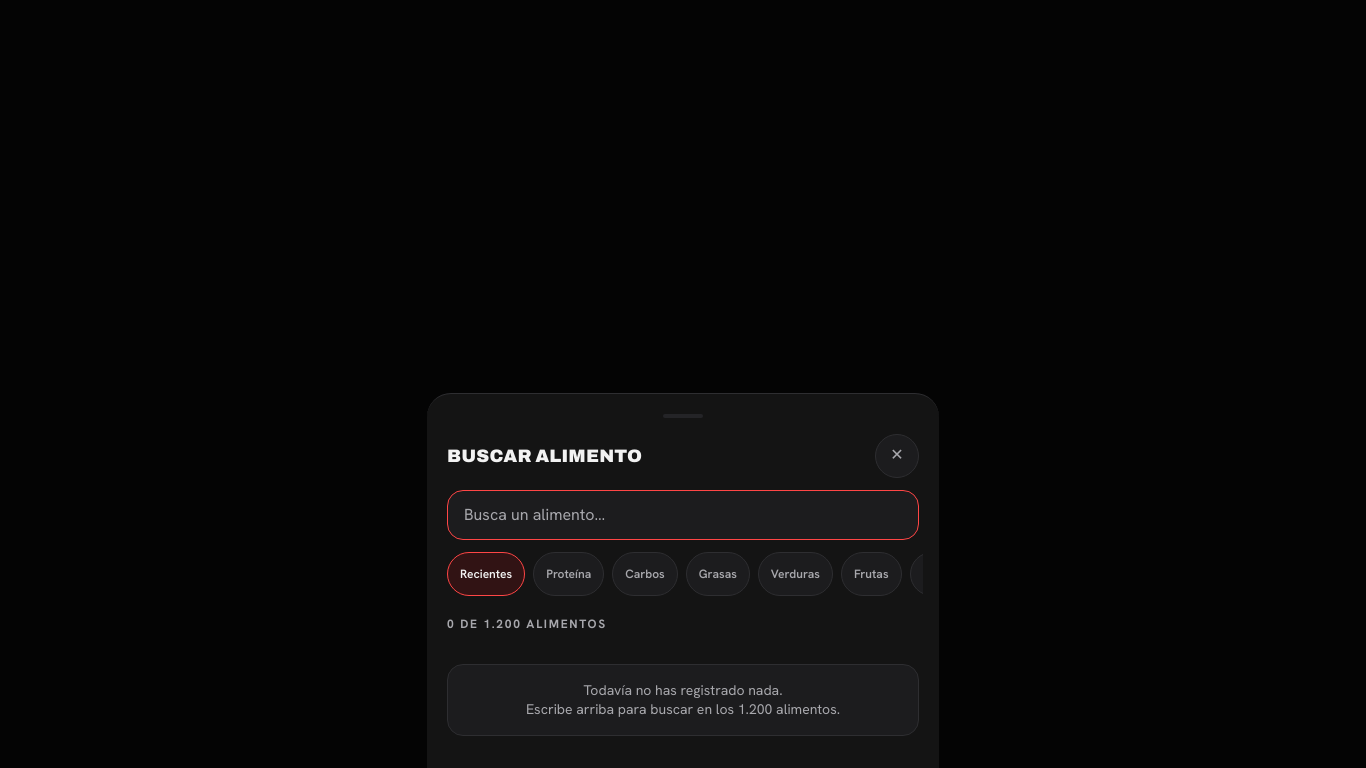
it: SheetBuscarAlimento › cuando no hay nada › no deja al asesorado en un callejón sin salida
This screenshot has width=1366, height=768.
Type "zzzzqqq" into the search field named "Nombre del alimento" at (683, 514), box x1=447 y1=490 x2=919 y2=540
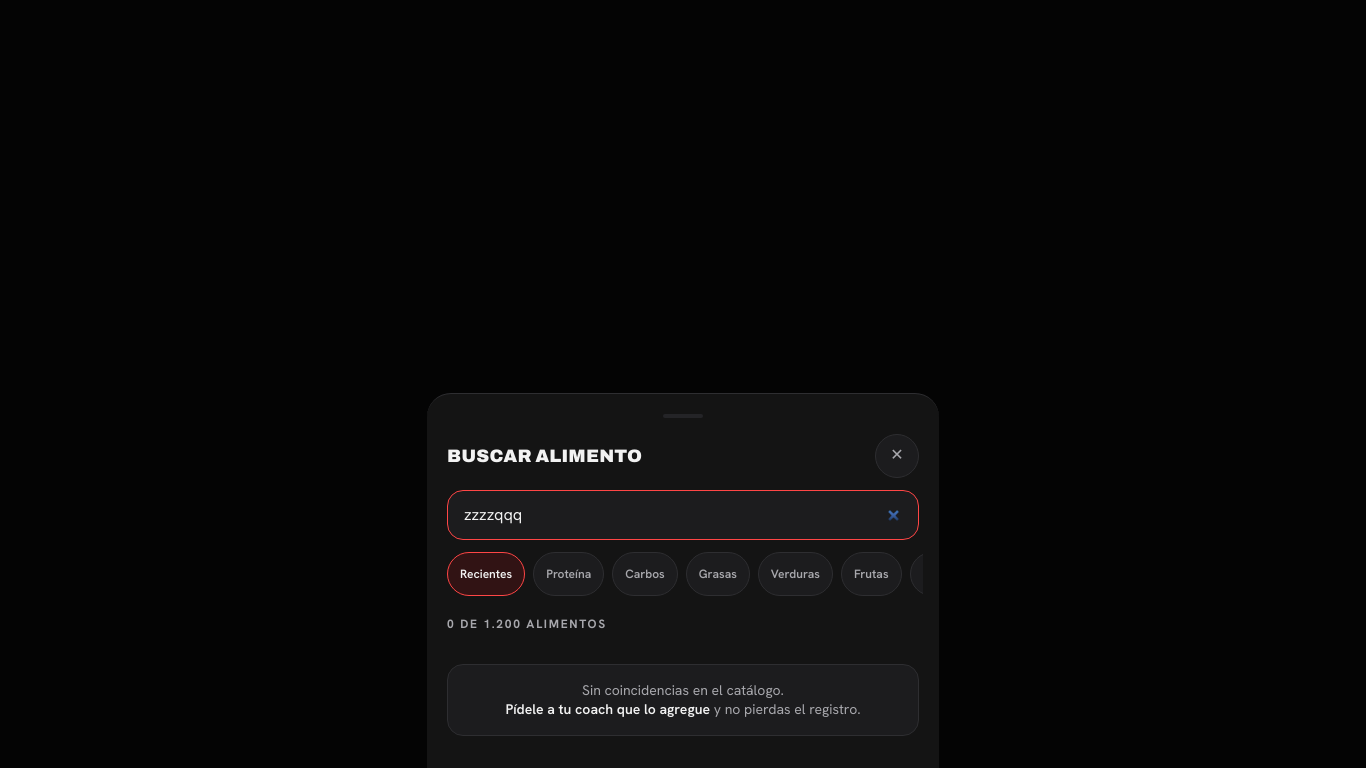
expect the text "Pídele a tu coach que lo agregue" is shown: met, box x1=505 y1=700 x2=710 y2=718
